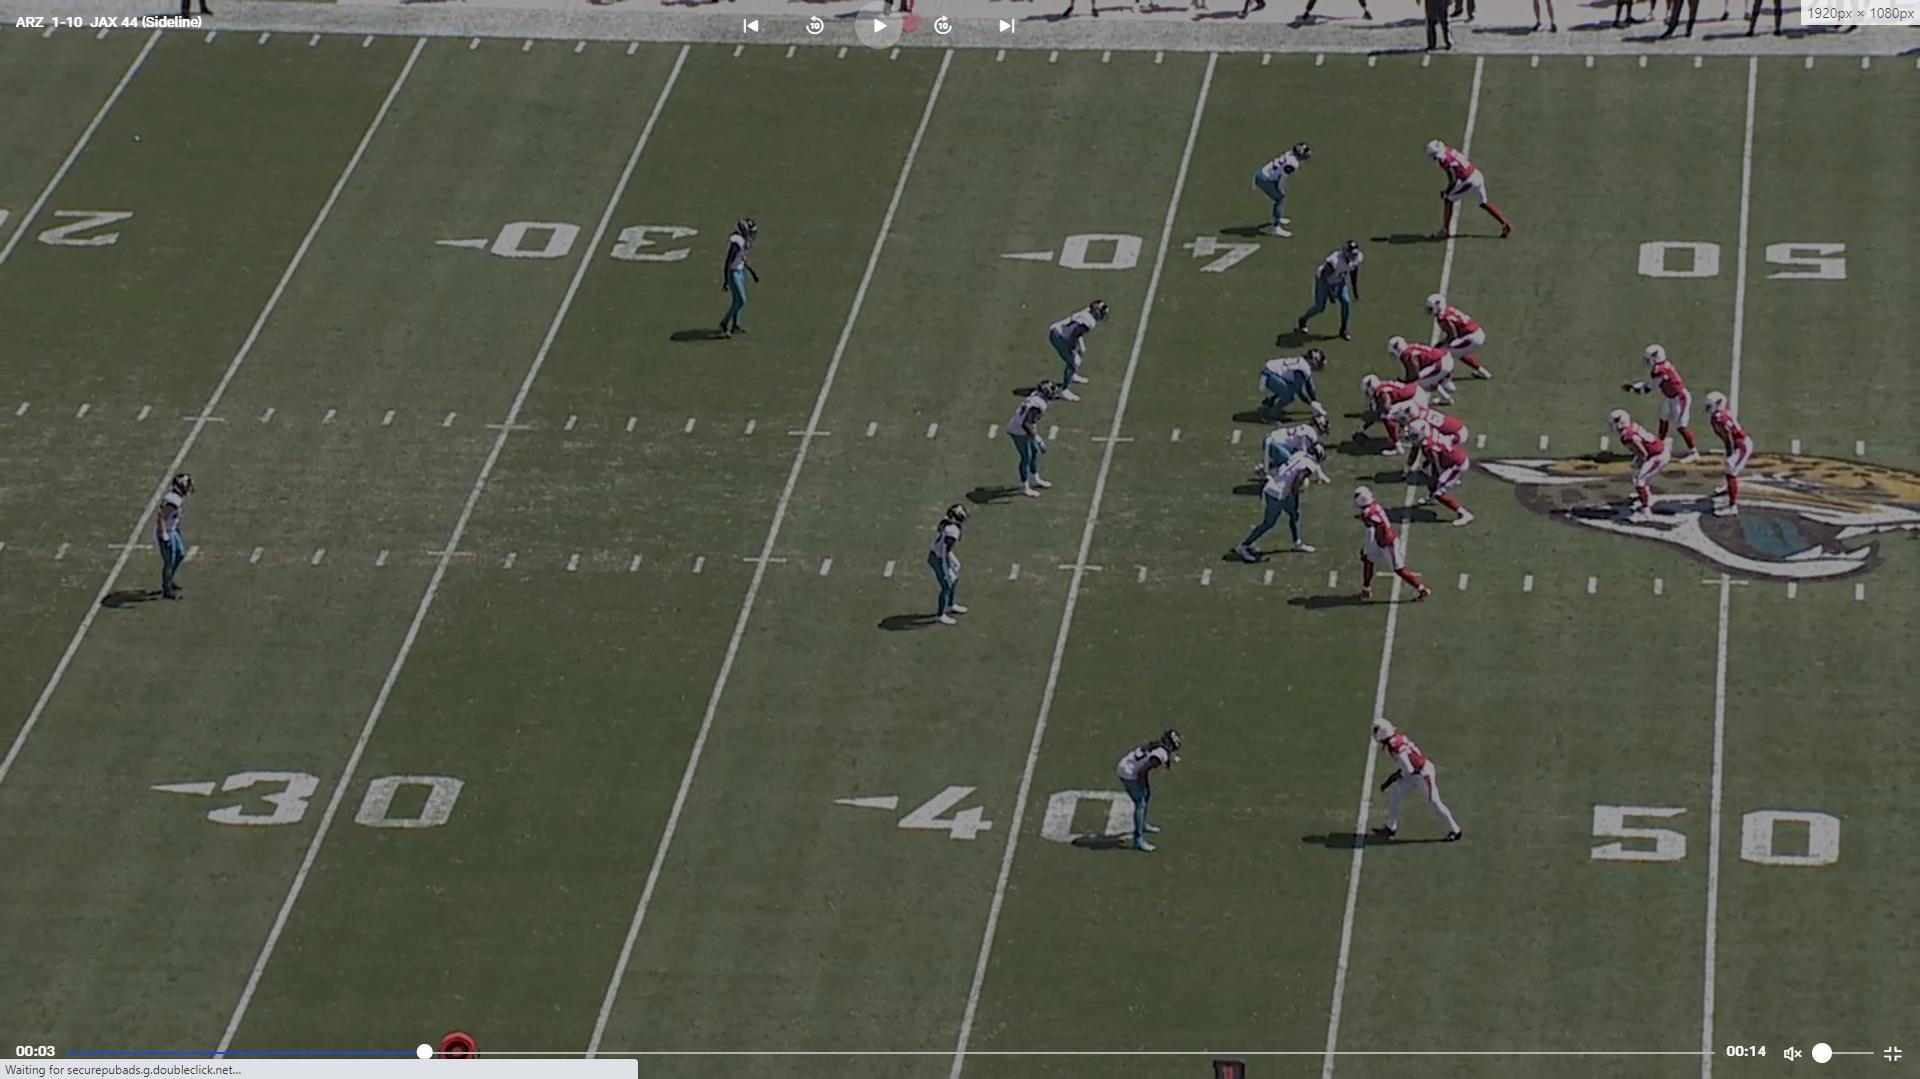player: (1367, 714, 1473, 849), (1233, 436, 1325, 565), (1347, 483, 1433, 607), (1625, 342, 1706, 470), (1427, 136, 1524, 241), (1283, 238, 1365, 346), (1115, 724, 1182, 856), (1601, 407, 1668, 534), (1238, 418, 1334, 499), (1405, 422, 1475, 532), (1047, 297, 1111, 407), (1010, 380, 1067, 503), (1700, 388, 1755, 514), (1347, 371, 1425, 459), (1427, 294, 1497, 391), (157, 474, 206, 609), (717, 215, 767, 346), (1387, 400, 1467, 479), (1249, 350, 1329, 428), (928, 503, 977, 630), (1253, 139, 1314, 239), (1387, 334, 1457, 399)
ref: (1420, 0, 1468, 55)
